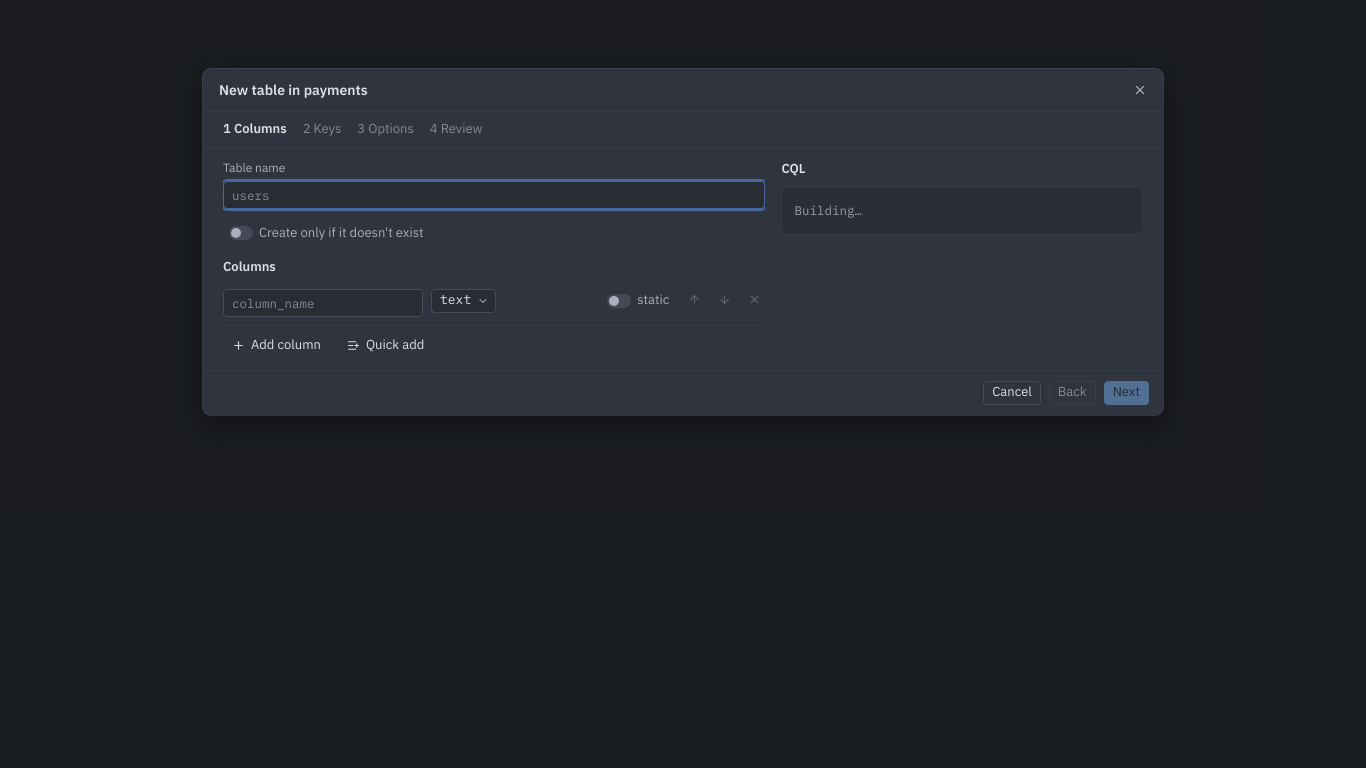
it: NewTableWizard › asks to discard on Escape
Type "u" into the field labelled "Table name".
click(494, 195); type("u")  # box [223, 181, 765, 209]
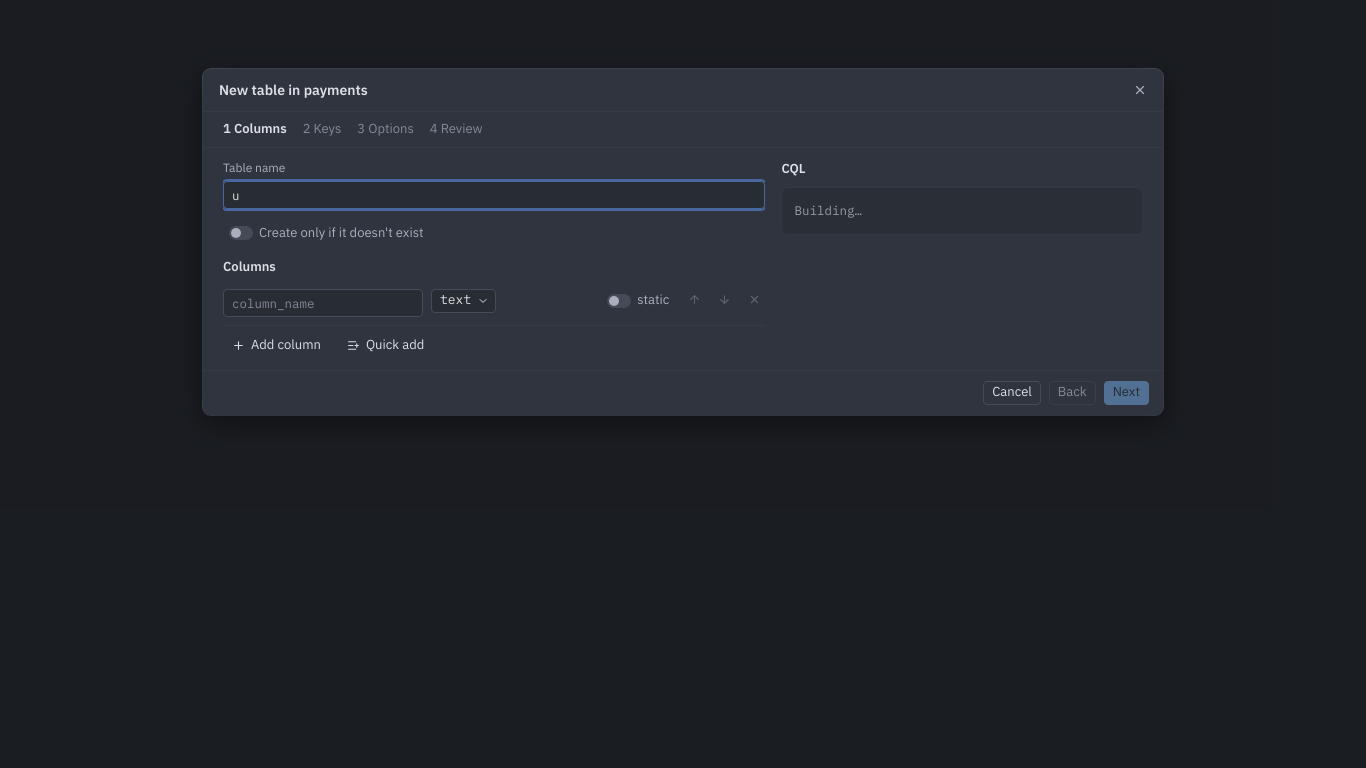
Press Escape
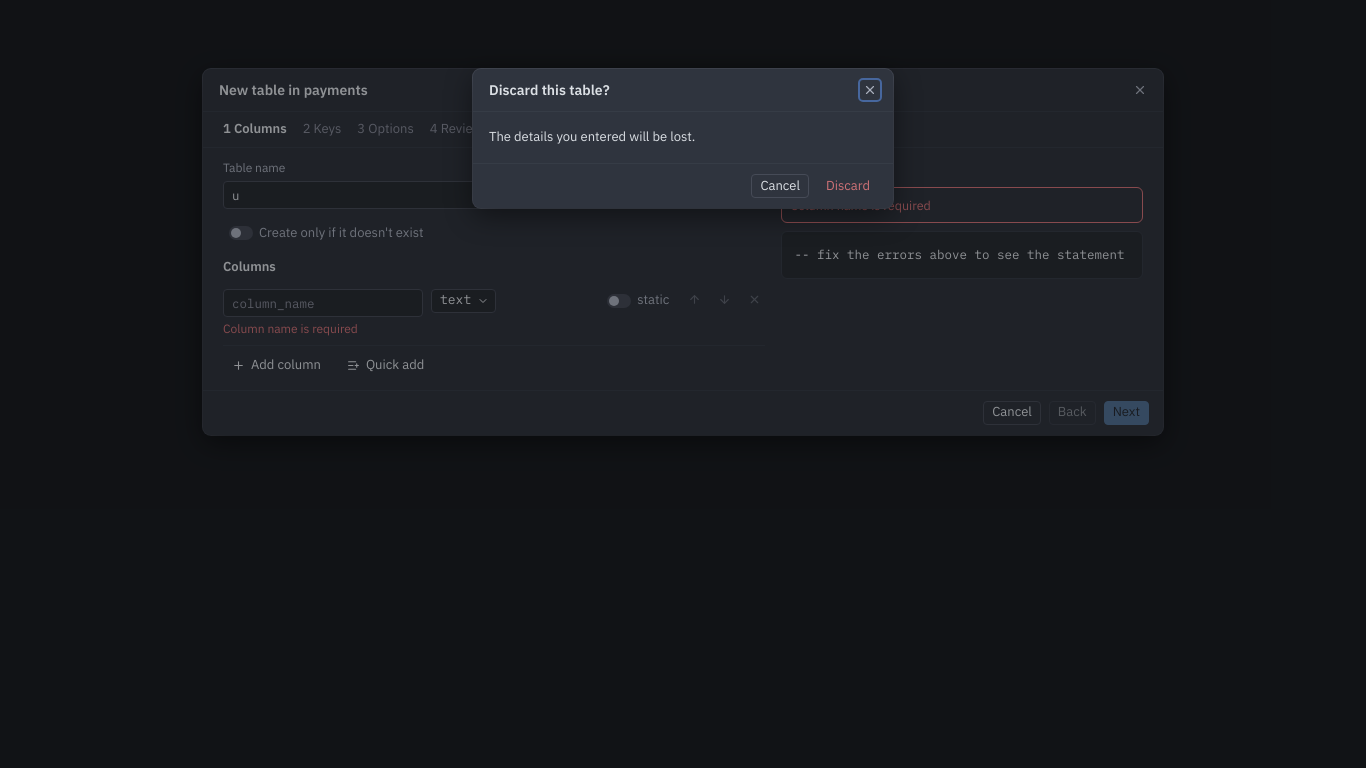
Check: the heading "Discard this table?" is shown, box [489, 80, 610, 100]
